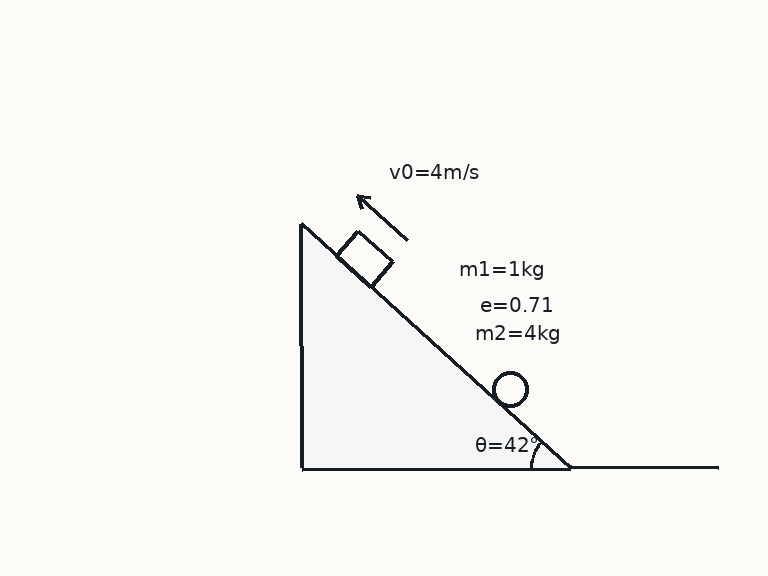ball: (490, 369, 530, 409)
block: (333, 229, 395, 289)
ramp: (299, 222, 573, 470)
